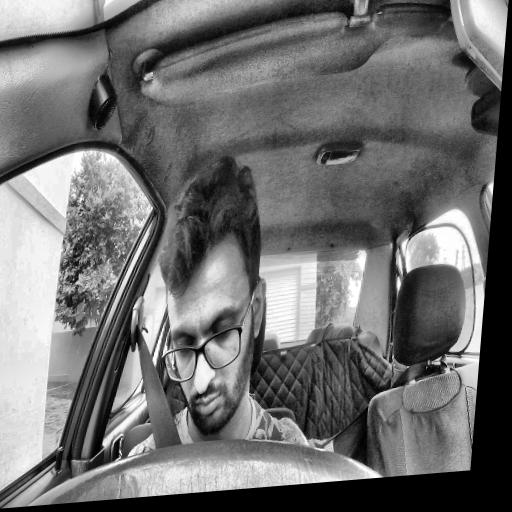drowsy: (146, 145, 281, 445)
